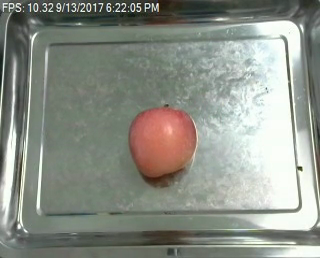Apple: (126, 103, 198, 180)
